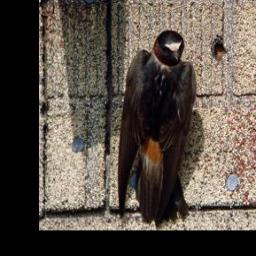Swallow: (115, 29, 196, 228)
